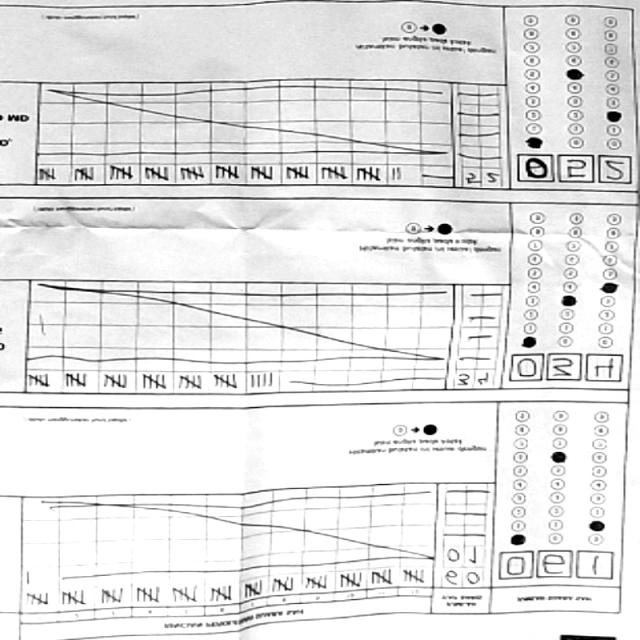Suara: (492, 546, 618, 584), (504, 352, 630, 390), (513, 151, 639, 189)
